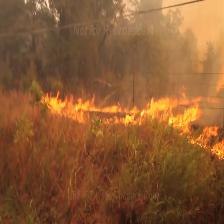fire: (41, 82, 224, 161)
nofire: (0, 130, 184, 224)
